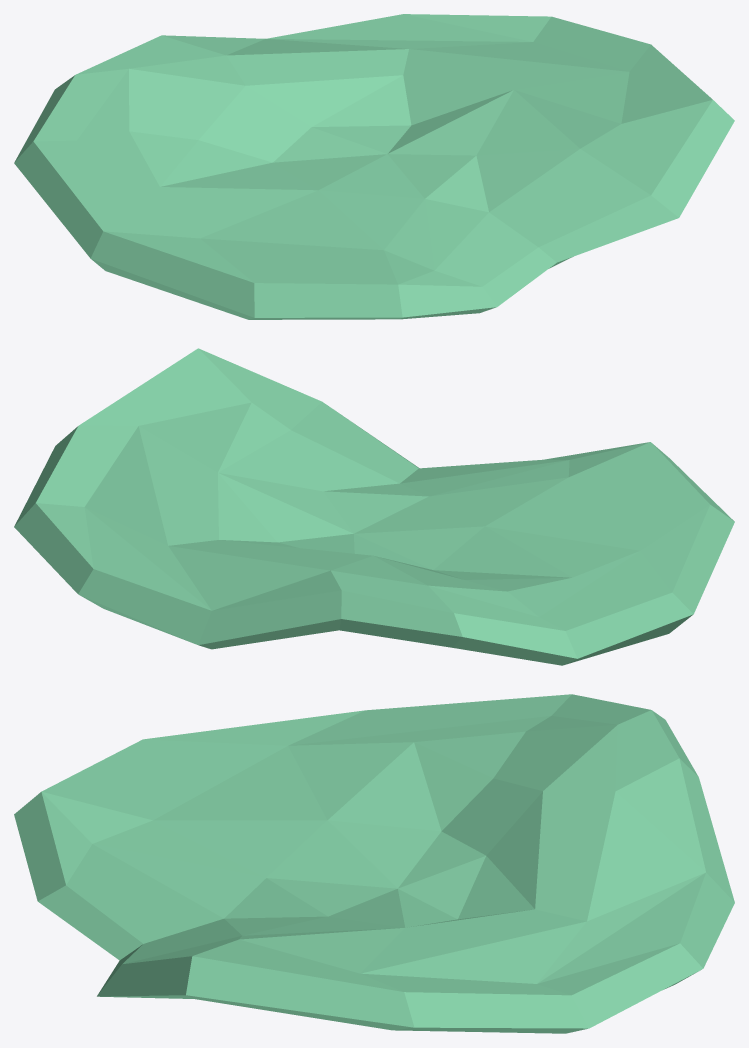
The model's file is Coral03.fbx.
The picture shows the model from 3 angles, top to bottom: view 1: azimuth 30°, elevation 25°; view 2: azimuth 150°, elevation 25°; view 3: azimuth 270°, elevation 25°; orthographic projection. The views are drawn at different scales.
Visible parts, largest first — view 1: Coral03; view 2: Coral03; view 3: Coral03.
Part boxes in pixels (x1,y1,x2,y2): Coral03: [14, 14, 734, 319]; Coral03: [14, 348, 734, 665]; Coral03: [14, 694, 734, 1033].
Size of the model in its own units: 3.13 by 0.5755 by 2.75.
